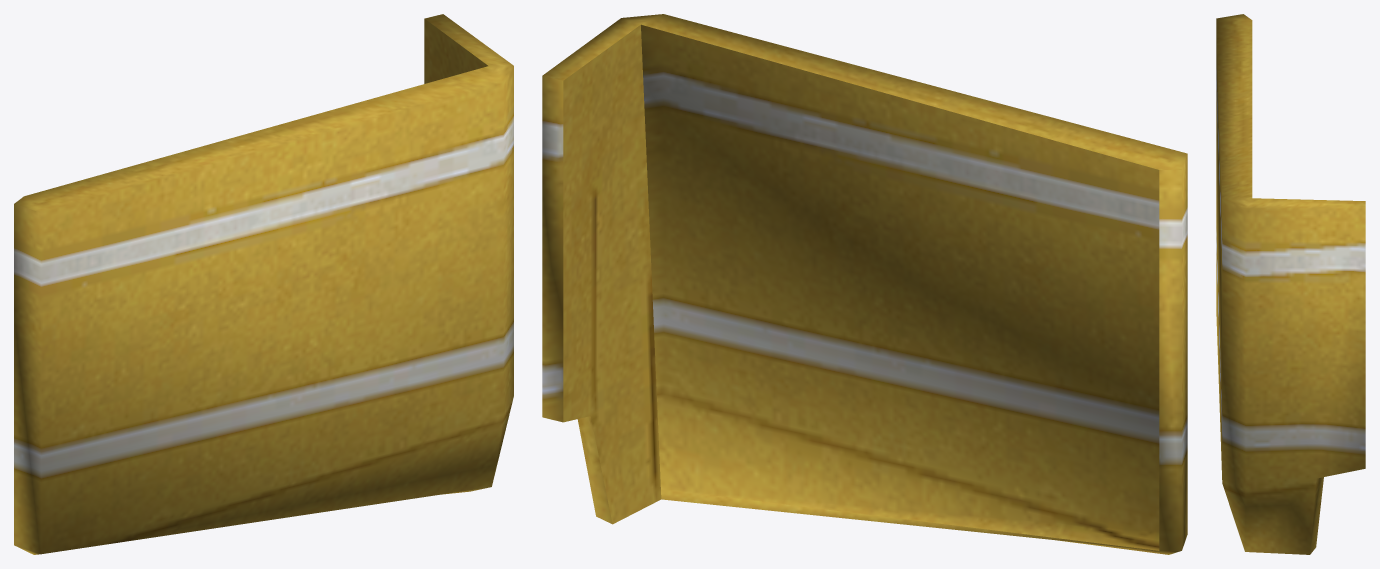
The model's file is p6_pool_towel_unfolded_01_LOD1.obj.
3 renders of one model, left to right at view 1: azimuth 30°, elevation 25°; view 2: azimuth 150°, elevation 25°; view 3: azimuth 270°, elevation 25°, orthographic. The views are drawn at different scales.
Visible parts, largest first — view 1: mtl_p6_pool_lounge_chair_acc; view 2: mtl_p6_pool_lounge_chair_acc; view 3: mtl_p6_pool_lounge_chair_acc.
Boxes of the visible parts, x1=… form: mtl_p6_pool_lounge_chair_acc: x1=14, y1=14, x2=513, y2=554; mtl_p6_pool_lounge_chair_acc: x1=542, y1=14, x2=1187, y2=554; mtl_p6_pool_lounge_chair_acc: x1=1216, y1=14, x2=1365, y2=554.
Bounding box in the file's own units: 78.67 × 63.16 × 23.97.
